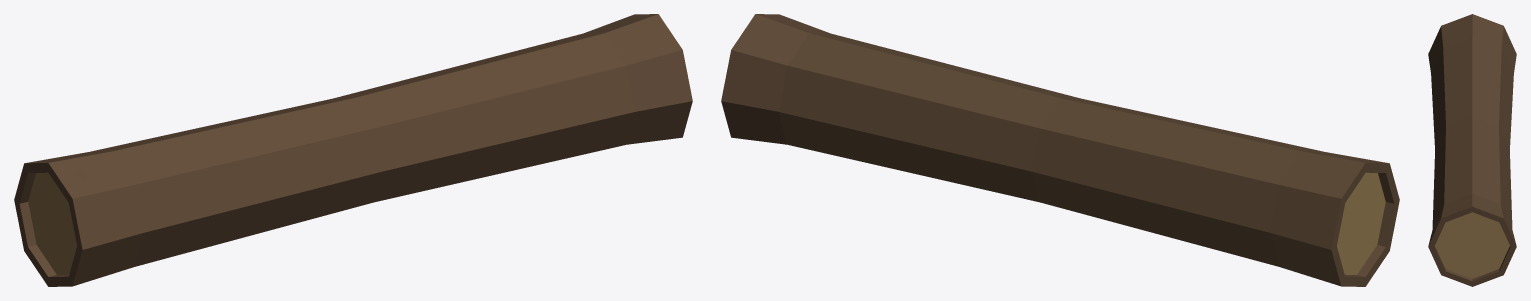
File: Hub_SittingLog.fbx
The picture shows the model from 3 angles, left to right: view 1: azimuth 30°, elevation 25°; view 2: azimuth 150°, elevation 25°; view 3: azimuth 270°, elevation 25°; orthographic projection. The views are drawn at different scales.
Parts seen in each view (by area): view 1: SittingLog; view 2: SittingLog; view 3: SittingLog.
Boxes of the visible parts, x1=… form: SittingLog: x1=14, y1=14, x2=692, y2=286; SittingLog: x1=721, y1=14, x2=1399, y2=286; SittingLog: x1=1428, y1=14, x2=1516, y2=286.
Size of the model in its own units: 201 by 39.13 by 39.13.
